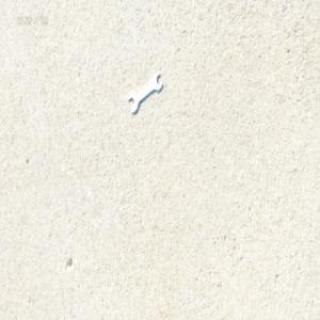Wrenchtrack_idkeyframe: (128, 71, 162, 113)
